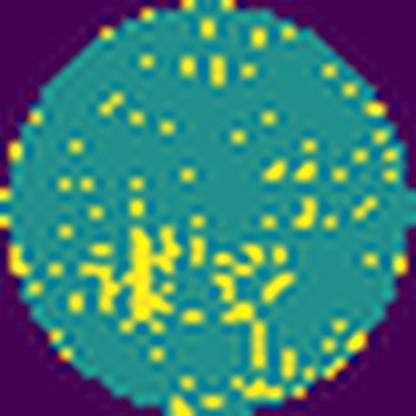Loc: (213, 242, 271, 366), (126, 221, 181, 335)
